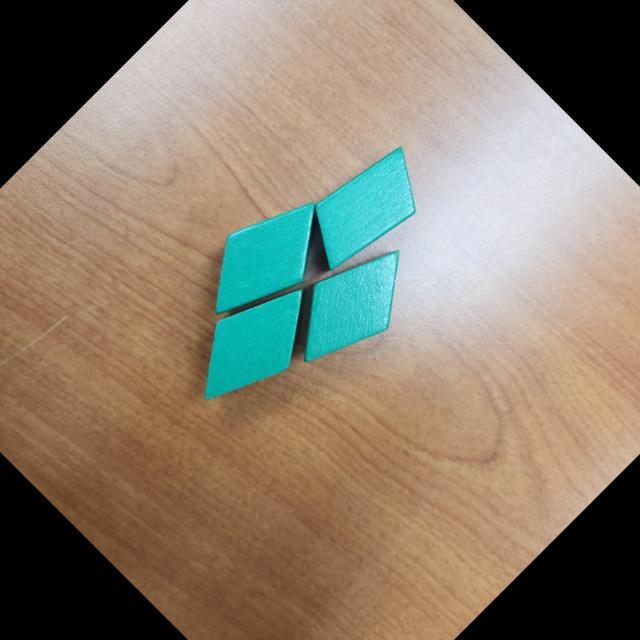green: (180, 175, 349, 344), (170, 261, 338, 428), (268, 224, 431, 386), (290, 132, 440, 282)
